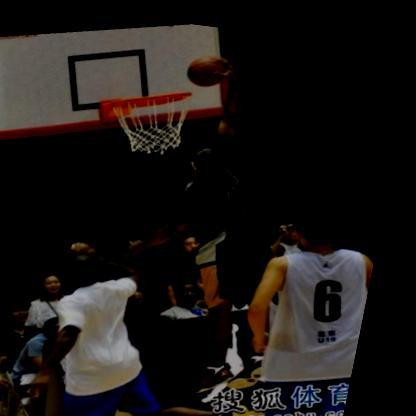basketball: (184, 45, 233, 87)
rim: (98, 77, 210, 164)
